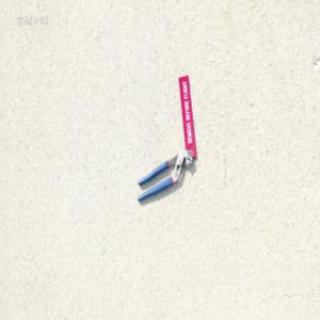LuggageTagtrack_idkeyframe: (176, 70, 196, 158)
Pliertrack_idkeyframe: (136, 147, 192, 202)
